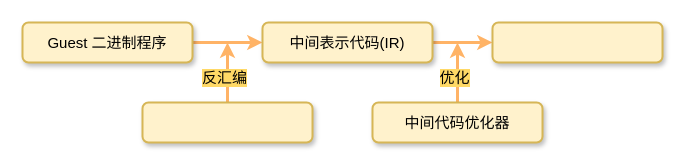
Some shapes in this 686 by 167 pixel diagram are drawn without their labels. The centre of each missing label's shape, as x and y in pixels:
"Host 二进制程序" belongs at point 578,43.
"反汇编器(Disassembler)" belongs at point 228,123.
